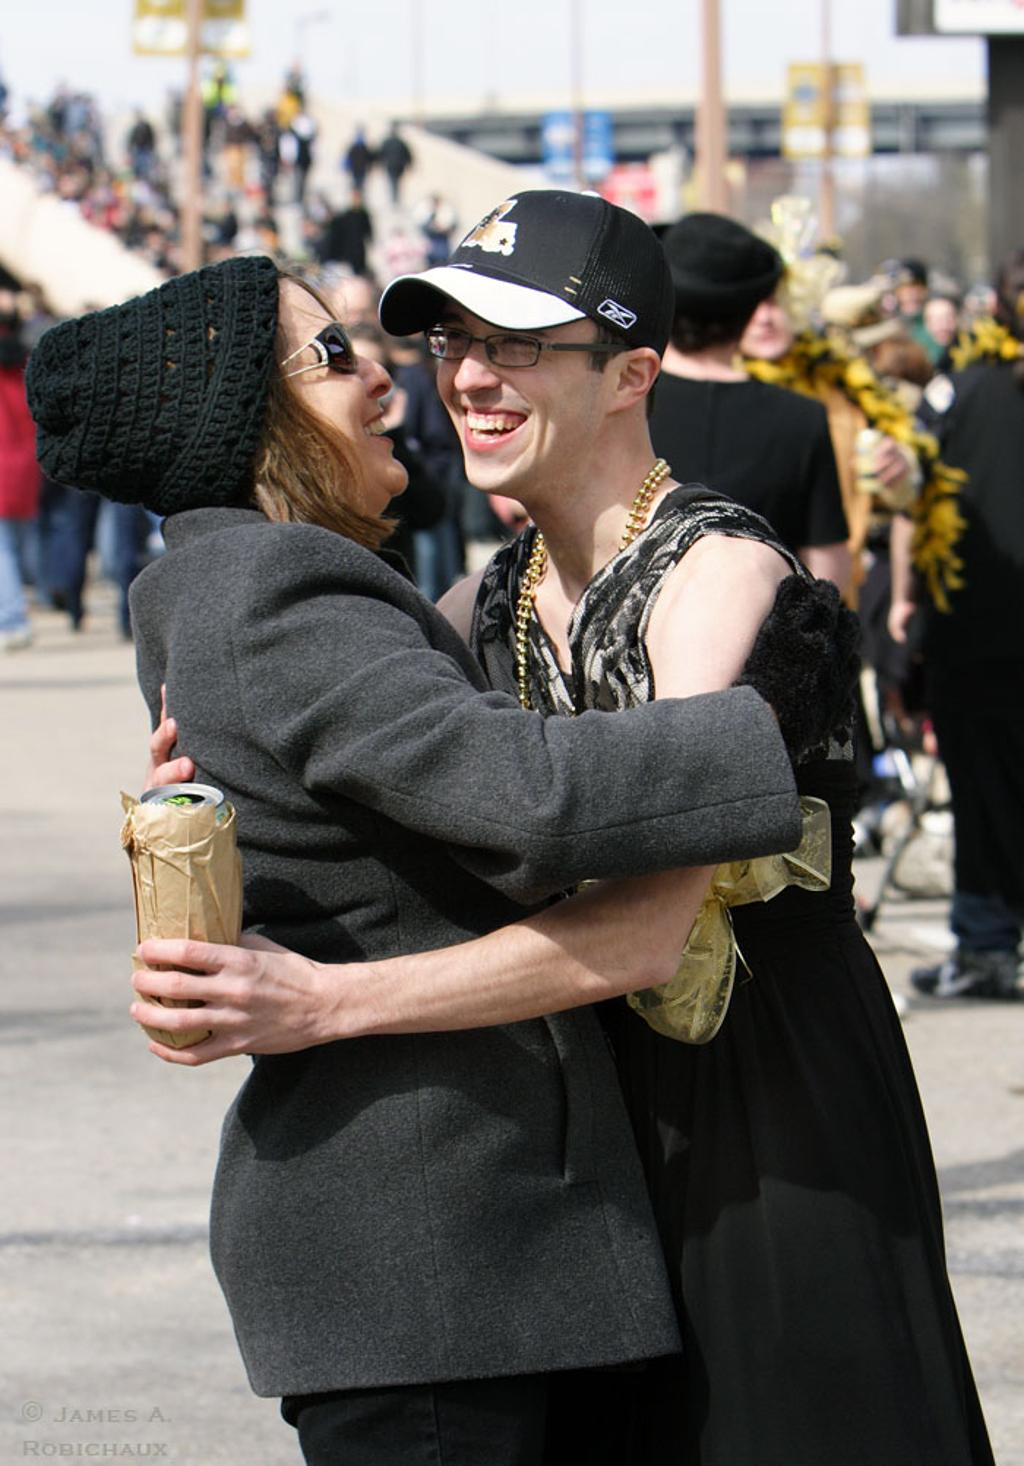face: (252, 266, 406, 506), (440, 283, 612, 486)
